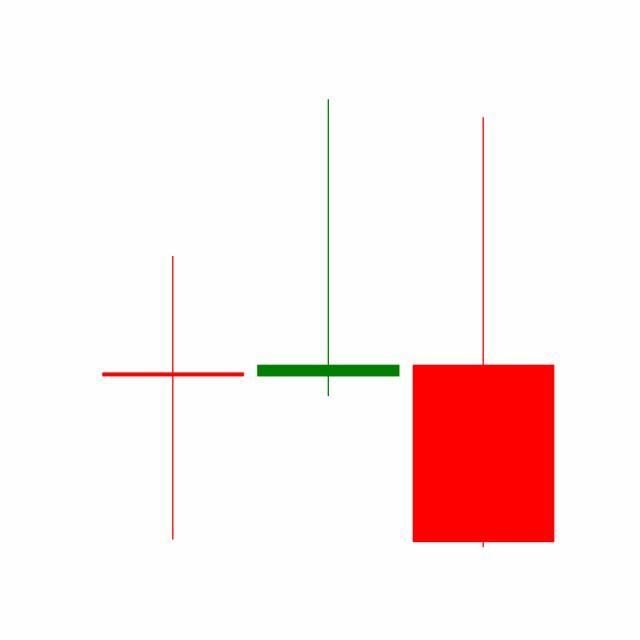Spinning Top: (250, 96, 407, 401)
